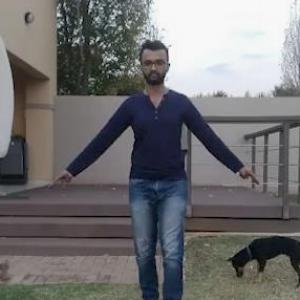land: (82, 59, 237, 299)
